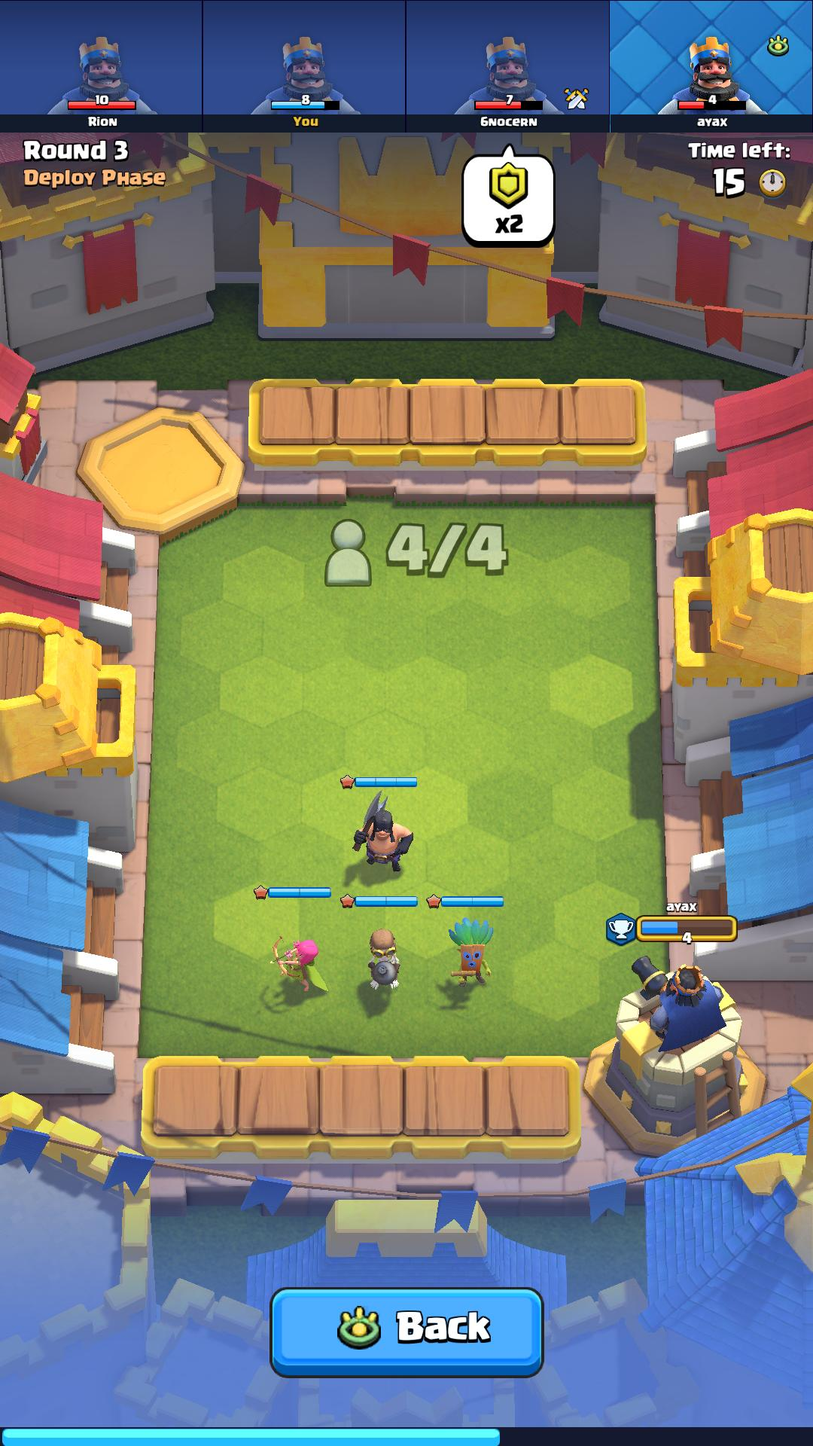archer: (266, 926, 334, 995)
bomber: (362, 924, 408, 991)
dart: (439, 917, 500, 989)
executioner: (352, 791, 418, 871)
